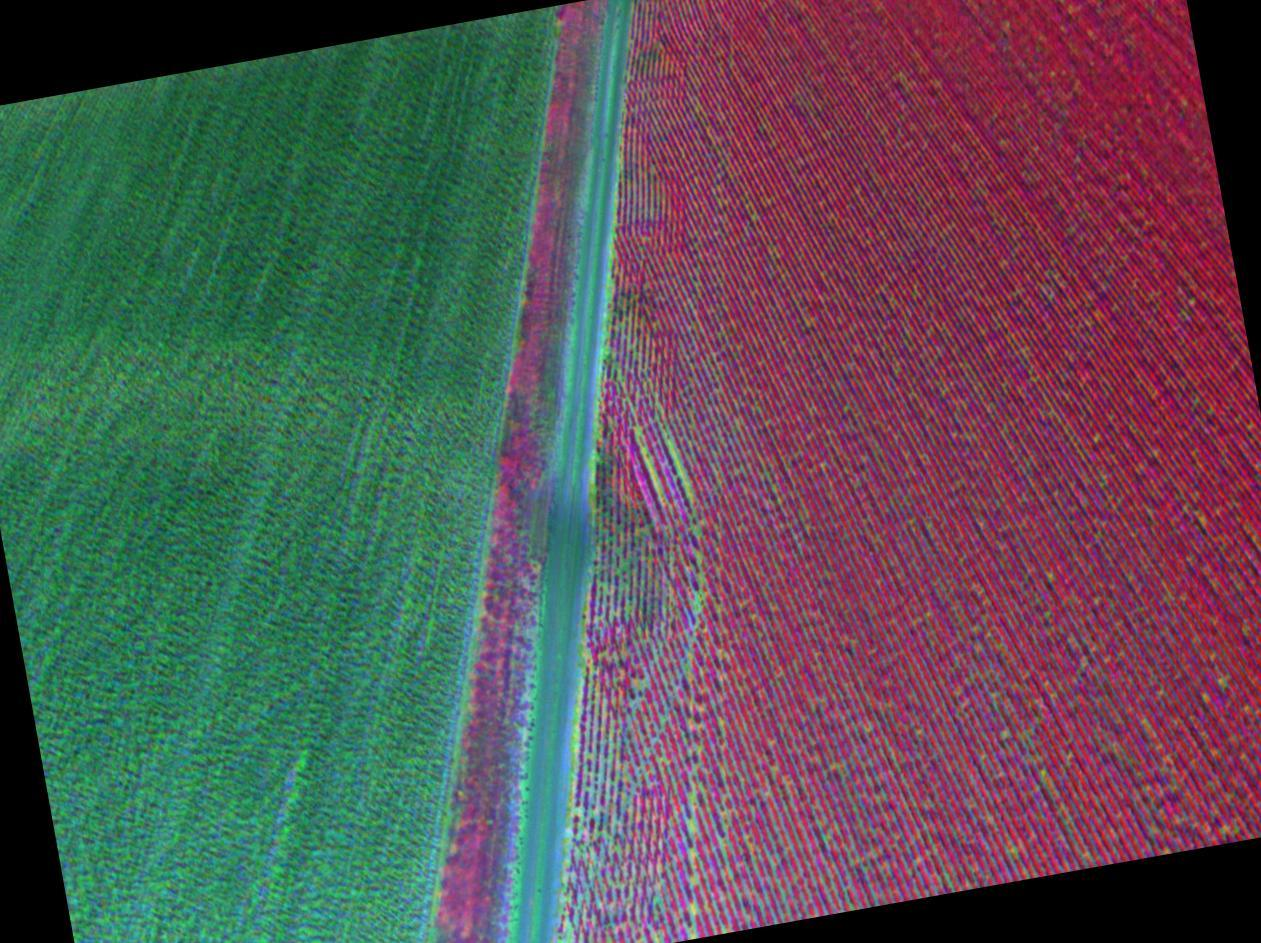dc: (668, 442, 673, 447), (697, 530, 701, 535), (699, 576, 703, 581), (639, 684, 643, 688), (718, 720, 721, 724), (1096, 436, 1099, 439)
